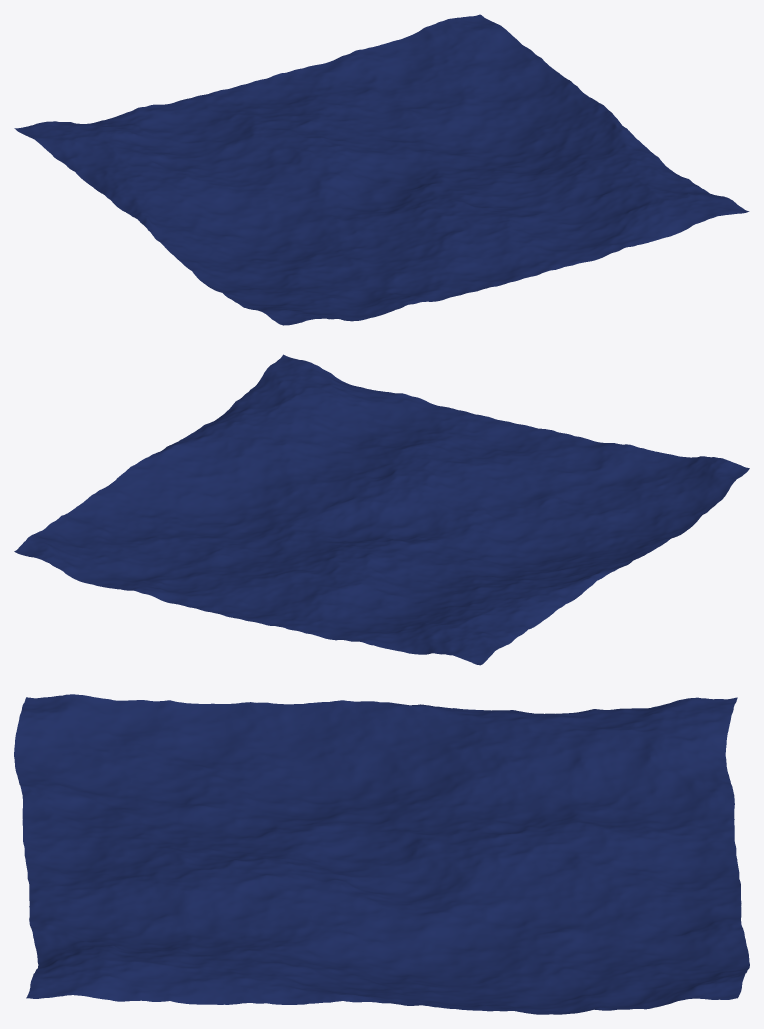
Rendered from nami.gltf.
3 renders of one model, top to bottom at view 1: azimuth 30°, elevation 25°; view 2: azimuth 150°, elevation 25°; view 3: azimuth 270°, elevation 25°, orthographic. The views are drawn at different scales.
Visible parts, largest first — view 1: Plane; view 2: Plane; view 3: Plane.
Boxes of the visible parts, box(x1,y1,x2,y2) form: Plane: box(14, 14, 749, 325); Plane: box(14, 354, 749, 665); Plane: box(14, 694, 749, 1014).
Bounding box in the file's own units: 51.65 × 2.86 × 51.71.
